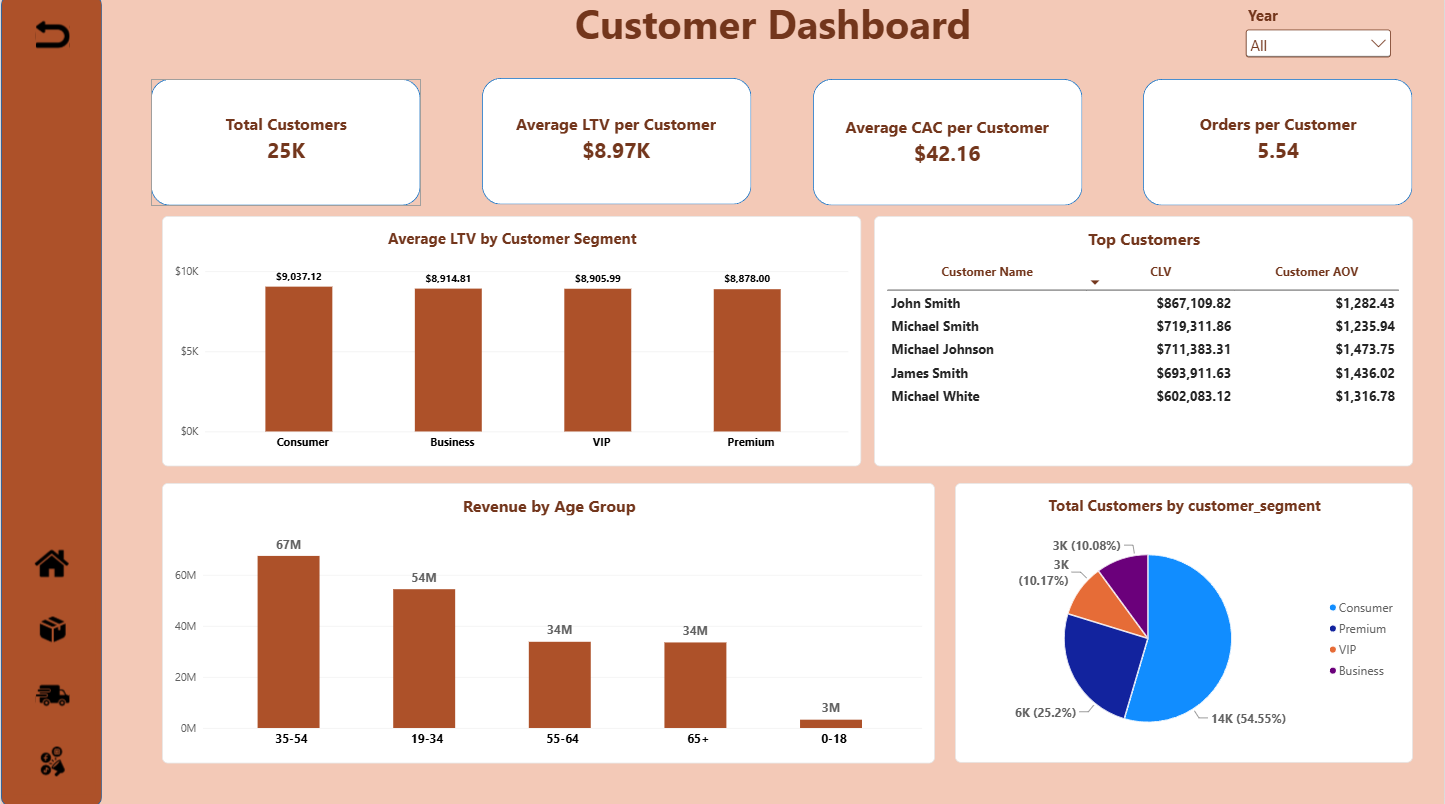

This screenshot's page, from the dashboard's own definition file:
{"tool":"powerbi","page":{"name":"Customer Dasboard","canvas":[1920,1080],"ordinal":2},"visuals":[{"type":"shape","box":[200,111.7,358.3,168.3],"z":0},{"type":"shape","box":[0,0,134.3,1080],"z":1000},{"type":"textbox","box":[134.6,0,1785.4,190.5],"z":2000},{"type":"cardVisual","fields":{"Data":["Measure Table.Total Customers"]},"box":[232.8,122.5,293.3,136.7],"z":3000},{"type":"shape","box":[639.8,110.4,358.3,168.3],"z":4000},{"type":"shape","box":[1519.4,111.9,358.3,168.3],"z":5000},{"type":"shape","box":[1079.6,111.9,358.3,168.3],"z":6000},{"type":"cardVisual","fields":{"Data":["Measure Table.Average LTV"]},"box":[665.2,122.5,306.9,136.1],"z":7000},{"type":"cardVisual","fields":{"Data":["Measure Table.Average CAC"]},"box":[1103.6,127,309.9,136.1],"z":8000},{"type":"cardVisual","fields":{"Data":["Measure Table.Orders per Customer"]},"box":[1543.6,122.5,309.9,136.1],"z":9000},{"type":"pieChart","fields":{"Category":["customer.customer_segment"],"Y":["Measure Table.Total Customers"]},"box":[1268.9,649.1,609.2,372.4],"z":10000},{"type":"tableEx","title":"Top Customers","fields":{"Values":["customer.customer_name","Sum(sales.customer_lifetime_value)","Measure Table.Customer AOV"]},"box":[1161.1,293.3,716.6,332.6],"z":11000},{"type":"clusteredColumnChart","title":"Revenue by Age Group","fields":{"Category":["customer.Age Group"],"Y":["Sum(order_items.net_sales)"]},"box":[214.7,648.6,1027.9,372.8],"z":12000},{"type":"clusteredColumnChart","title":"Average LTV by Customer Segment","fields":{"Category":["customer.customer_segment"],"Y":["Measure Table.Average LTV"]},"box":[214.7,293.3,929.8,332.6],"z":13000},{"type":"slicer","title":"Year","fields":{"Values":["Calendar.Year"]},"box":[1650.9,12.1,202.6,99.8],"z":14000},{"type":"actionButton","box":[13.3,799.4,111.7,88.3],"z":15000},{"type":"actionButton","box":[13.3,887.1,111.7,88.3],"z":16000},{"type":"actionButton","box":[13.3,974.9,111.7,88.3],"z":17000},{"type":"actionButton","box":[12,711.6,111.7,88.3],"z":18000},{"type":"actionButton","box":[13.3,8,111.7,88.3],"z":18001}]}

Visuals, with their boxes on the page's 1920x1080 design canvas (x1, y1, x2, y2). These are canvas units, not pixel positions in the 1445x804 screenshot, which may show the page scaled, cropped or inside an application window:
shape: region(200, 112, 558, 280)
shape: region(0, 0, 134, 1080)
textbox: region(135, 0, 1920, 190)
cardVisual - Measure Table.Total Customers: region(233, 122, 526, 259)
shape: region(640, 110, 998, 279)
shape: region(1519, 112, 1878, 280)
shape: region(1080, 112, 1438, 280)
cardVisual - Measure Table.Average LTV: region(665, 122, 972, 259)
cardVisual - Measure Table.Average CAC: region(1104, 127, 1414, 263)
cardVisual - Measure Table.Orders per Customer: region(1544, 122, 1854, 259)
pieChart - customer.customer_segment x Measure Table.Total Customers: region(1269, 649, 1878, 1022)
"Top Customers" tableEx: region(1161, 293, 1878, 626)
"Revenue by Age Group" clusteredColumnChart: region(215, 649, 1243, 1021)
"Average LTV by Customer Segment" clusteredColumnChart: region(215, 293, 1144, 626)
"Year" slicer: region(1651, 12, 1854, 112)
actionButton: region(13, 799, 125, 888)
actionButton: region(13, 887, 125, 975)
actionButton: region(13, 975, 125, 1063)
actionButton: region(12, 712, 124, 800)
actionButton: region(13, 8, 125, 96)
